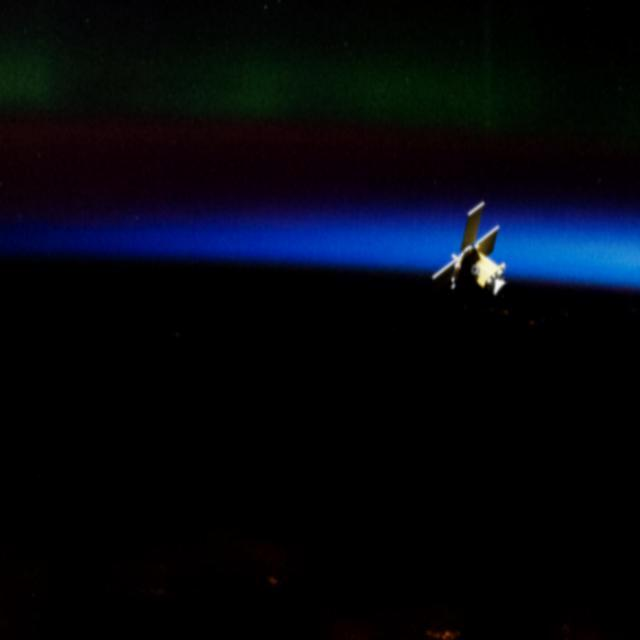satellite: (420, 192, 523, 331)
